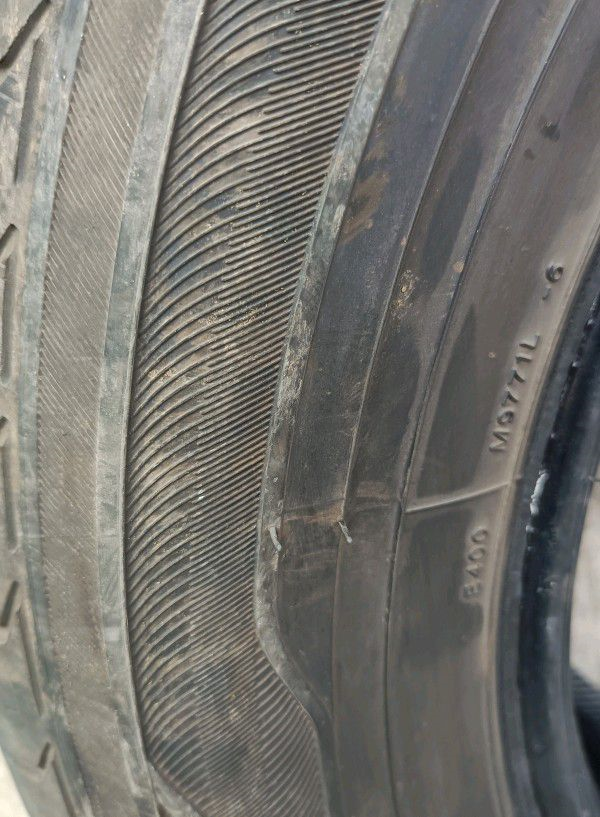CBU: (221, 286, 407, 735)
